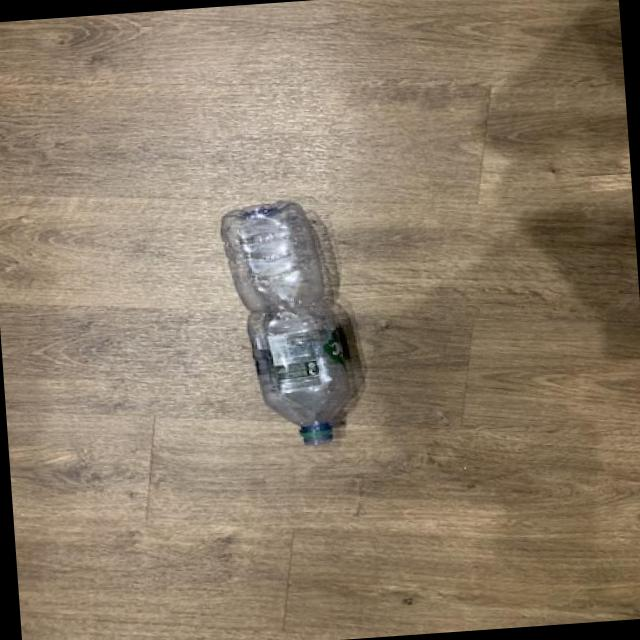BotolPlastik: (218, 196, 360, 453)
